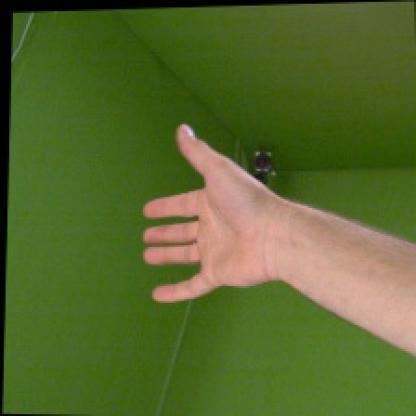Hand: (140, 124, 294, 302)
